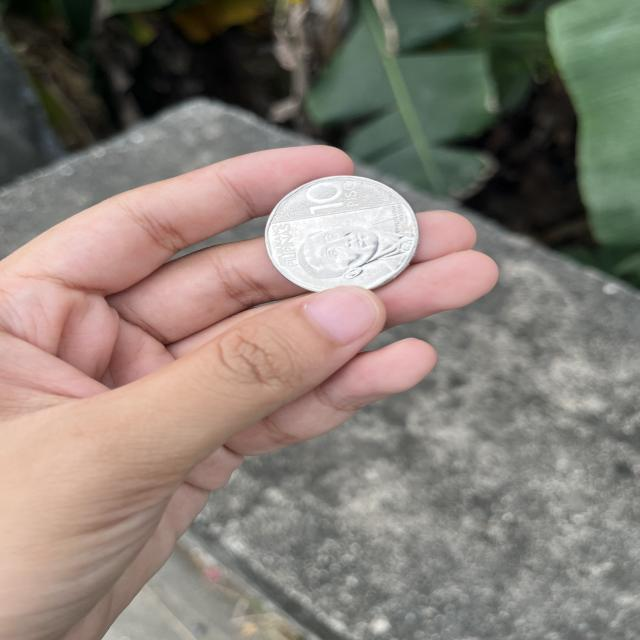10_New_Front: (300, 179, 365, 211)
